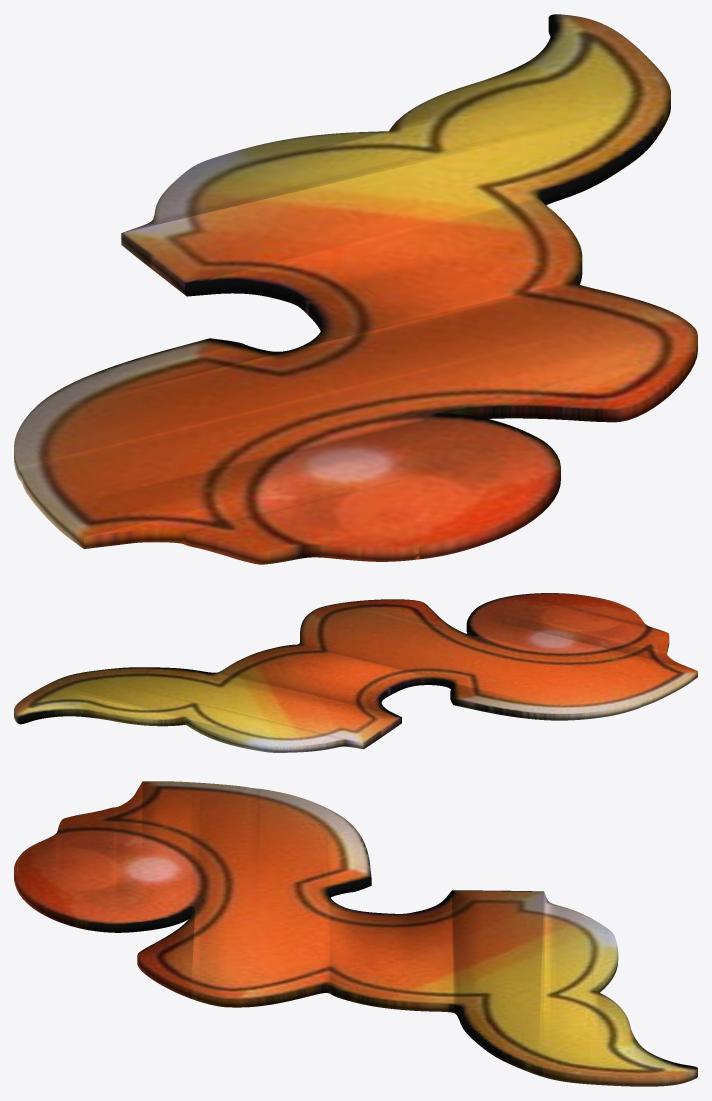
3 renders of one model, top to bottom at view 1: azimuth 30°, elevation 25°; view 2: azimuth 150°, elevation 25°; view 3: azimuth 270°, elevation 25°, orthographic. The views are drawn at different scales.
Visible parts, largest first — view 1: path1587; view 2: path1587; view 3: path1587.
Part boxes in pixels (x1,y1,x2,y2): path1587: [14, 14, 697, 564]; path1587: [14, 593, 697, 752]; path1587: [14, 781, 697, 1086].
Size of the model in its own units: 80.23 by 1 by 77.95.
1 material, 1 textured.
